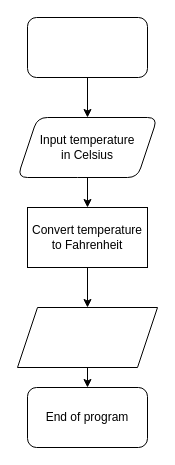
The diagram is 175 pixels wide and 465 high, and some of its shapes have lost their labels. Here are the shapes that lost their labels. From the top down, the centre of each, then its label:
the point at 87,47: Start
the point at 87,337: Output converted temperature
